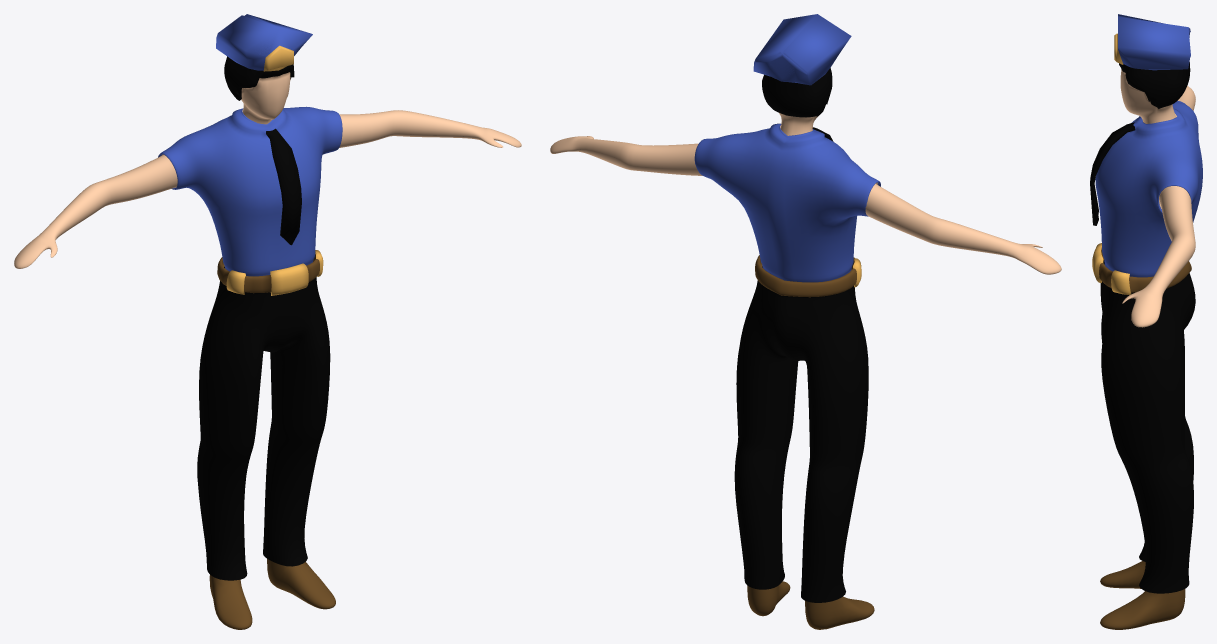
Rendered from police.fbx.
3 views of the same model, side by side, from view 1: azimuth 30°, elevation 25°; view 2: azimuth 150°, elevation 25°; view 3: azimuth 270°, elevation 25° (orthographic).
Visible parts, largest first — view 1: Cube.006; view 2: Cube.006; view 3: Cube.006.
Part boxes in pixels (x1,y1,x2,y2): Cube.006: (14,14,521,629); Cube.006: (550,14,1061,629); Cube.006: (1090,14,1202,629).
Size of the model in its own units: 171 by 189 by 32.89.
